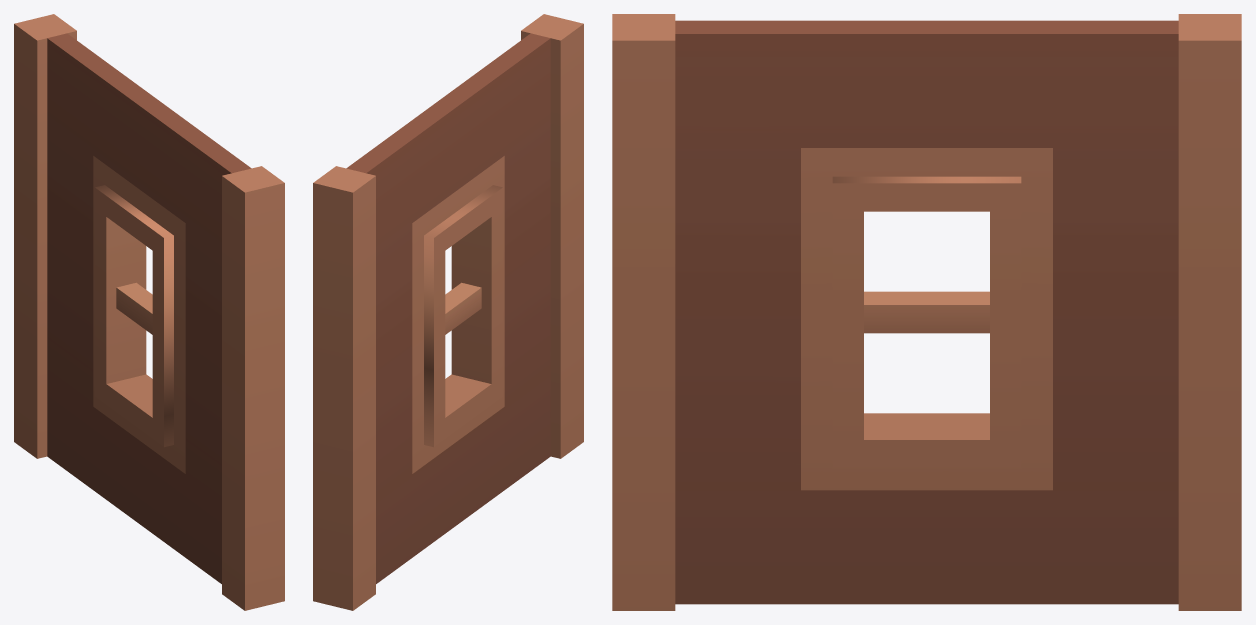
Rendered from ot-wall-wood-window-glass.glb.
3 views of the same model, side by side, from view 1: azimuth 30°, elevation 25°; view 2: azimuth 150°, elevation 25°; view 3: azimuth 270°, elevation 25° (orthographic). The views are drawn at different scales.
Visible parts, largest first — view 1: wall-wood-window-glass; view 2: wall-wood-window-glass; view 3: wall-wood-window-glass.
Boxes of the visible parts, bbox=[...] form: wall-wood-window-glass: bbox=[14, 14, 284, 610]; wall-wood-window-glass: bbox=[313, 14, 583, 610]; wall-wood-window-glass: bbox=[612, 14, 1241, 610].
Size of the model in its own units: 0.1 by 1 by 1.
1 material, 1 textured.
